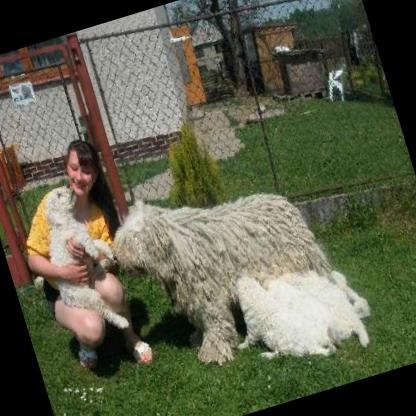komondor: (100, 152, 342, 380), (218, 241, 370, 384), (23, 175, 136, 346)
